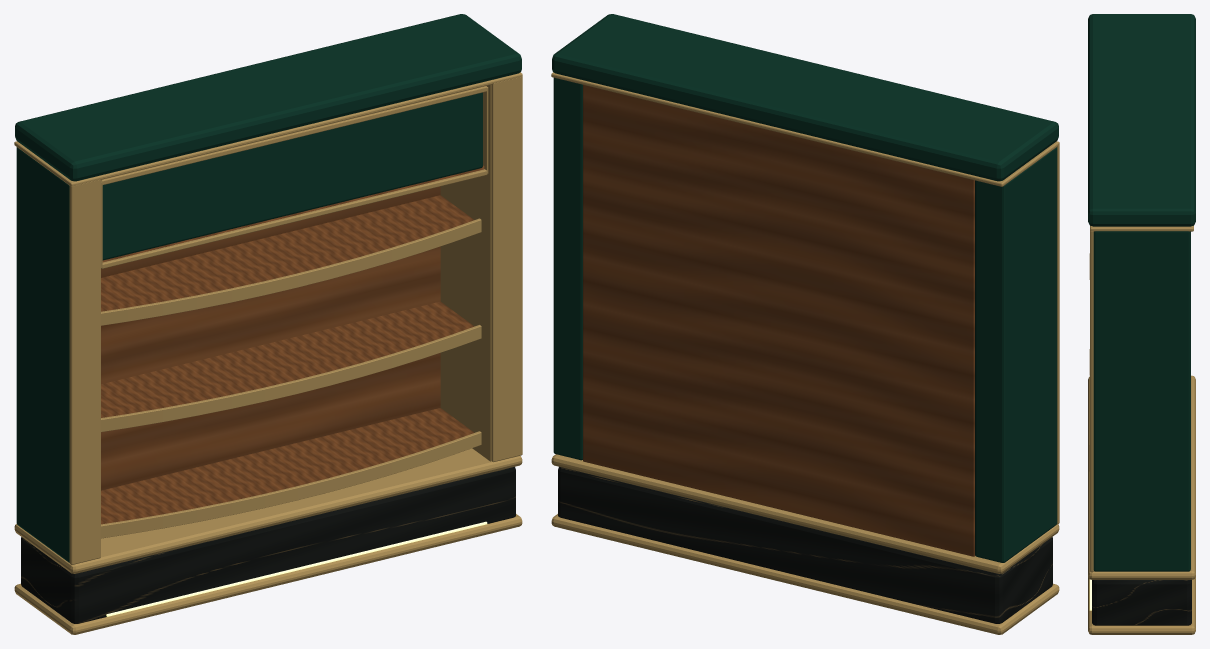
The picture shows the model from 3 angles, left to right: view 1: azimuth 30°, elevation 25°; view 2: azimuth 150°, elevation 25°; view 3: azimuth 270°, elevation 25°; orthographic projection. The views are drawn at different scales.
Parts seen in each view (by area): view 1: cabinet_back, cabinet_crown, brand_header_panel, cabinet_stone_base, cabinet_left_pillar, shelf_2, shelf_3, shelf_1, trim_right_front, trim_left_front, trim_right_inner, trim_base_top (+9 smaller); view 2: cabinet_back, cabinet_crown, cabinet_left_pillar, cabinet_stone_base, cabinet_right_pillar, trim_base_top, trim_base_plinth, trim_crown_lip, trim_left_front; view 3: cabinet_right_pillar, cabinet_crown, cabinet_stone_base, trim_base_top, trim_base_plinth, trim_right_front, trim_crown_lip.
Boxes of the visible parts, bbox=[...] form: cabinet_back: bbox=[101, 186, 440, 490]; cabinet_crown: bbox=[15, 14, 521, 181]; brand_header_panel: bbox=[102, 92, 482, 260]; cabinet_stone_base: bbox=[21, 467, 515, 623]; cabinet_left_pillar: bbox=[16, 147, 69, 562]; shelf_2: bbox=[101, 301, 474, 417]; shelf_3: bbox=[101, 195, 474, 311]; shelf_1: bbox=[101, 408, 474, 524]; trim_right_front: bbox=[491, 76, 522, 462]; trim_left_front: bbox=[69, 179, 100, 564]; trim_right_inner: bbox=[440, 85, 491, 461]; trim_base_top: bbox=[14, 448, 522, 573]; cabinet_back: bbox=[583, 85, 975, 556]; cabinet_crown: bbox=[552, 14, 1058, 181]; cabinet_left_pillar: bbox=[975, 147, 1057, 562]; cabinet_stone_base: bbox=[558, 467, 1052, 623]; cabinet_right_pillar: bbox=[553, 77, 582, 460]; trim_base_top: bbox=[551, 454, 1059, 573]; trim_base_plinth: bbox=[551, 514, 1059, 634]; trim_crown_lip: bbox=[551, 72, 1059, 186]; trim_left_front: bbox=[1057, 145, 1059, 524]; cabinet_right_pillar: bbox=[1093, 231, 1190, 571]; cabinet_crown: bbox=[1088, 14, 1195, 226]; cabinet_stone_base: bbox=[1092, 580, 1191, 625]; trim_base_top: bbox=[1088, 375, 1195, 579]; trim_base_plinth: bbox=[1088, 576, 1195, 634]; trim_right_front: bbox=[1090, 231, 1093, 572]; trim_crown_lip: bbox=[1090, 225, 1193, 231].
Bounding box in the file's own units: 2.4 × 2.4 × 0.55.
Materials: 5 (2 with a texture image).
